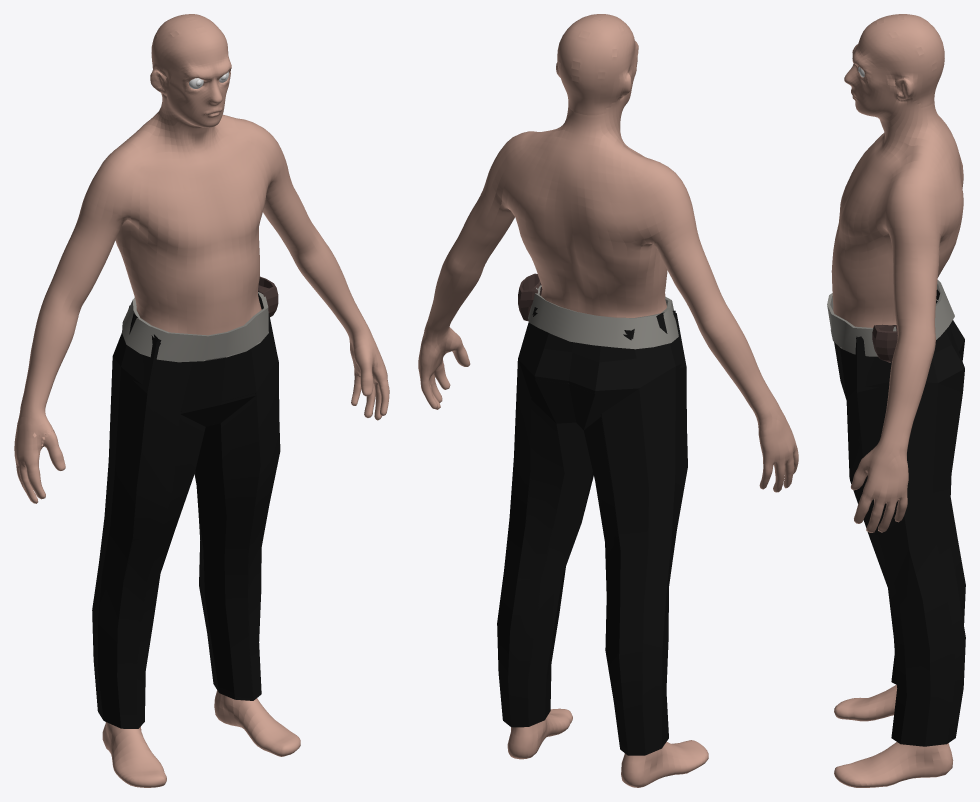
File: ninja.fbx
3 renders of one model, left to right at view 1: azimuth 30°, elevation 25°; view 2: azimuth 150°, elevation 25°; view 3: azimuth 270°, elevation 25°, orthographic.
Parts seen in each view (by area): view 1: HumanBody:humanBody, pCylinder2 (×2), pCylinder1 (×2), pCylinder3; view 2: HumanBody:humanBody, pCylinder2 (×2), pCylinder1 (×2), pCylinder3, pSphere1; view 3: HumanBody:humanBody, pCylinder1 (×2), pCylinder3, pCylinder2, pSphere1.
Boxes of the visible parts, x1,y1,x2,y2 form: HumanBody:humanBody: (14,14,389,787); pCylinder2 (×2): (92,305,225,728); pCylinder1 (×2): (194,293,280,700); pCylinder3: (122,292,268,362); HumanBody:humanBody: (418,14,798,787); pCylinder2 (×2): (568,310,687,755); pCylinder1 (×2): (497,283,593,727); pCylinder3: (528,285,678,349); pSphere1: (518,273,542,321); HumanBody:humanBody: (831,14,963,787); pCylinder1 (×2): (834,325,965,746); pCylinder3: (827,280,954,356); pCylinder2: (891,289,965,681); pSphere1: (872,324,897,362).
Bounding box in the file's own units: 95.48 × 183 × 31.42.
